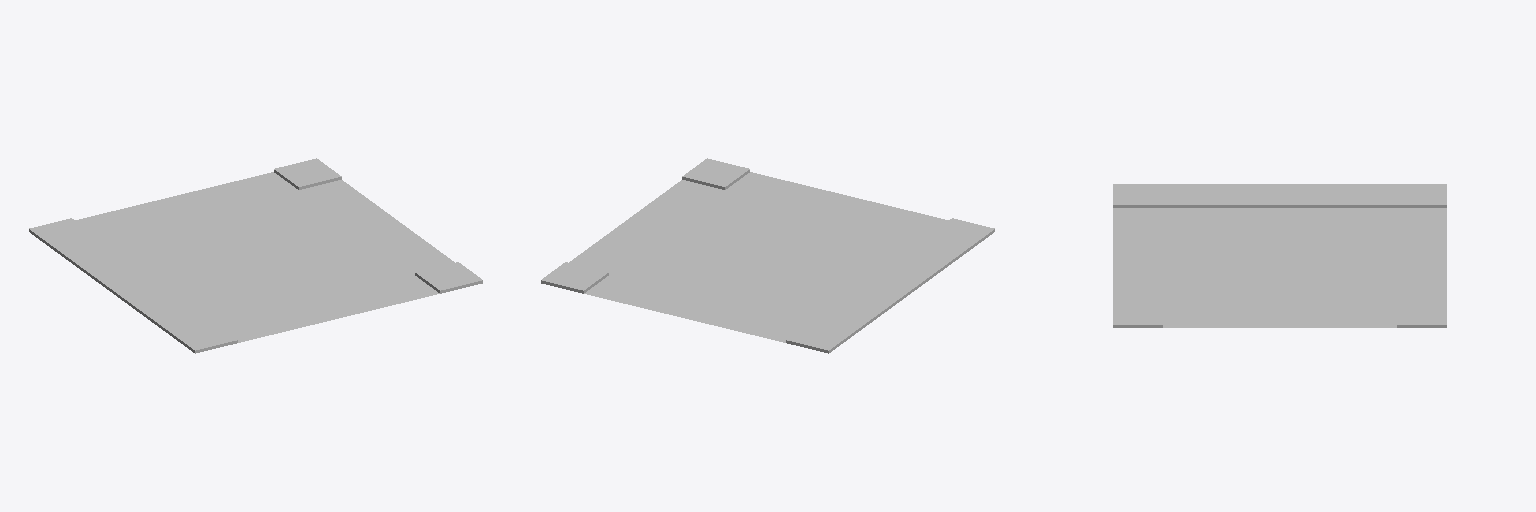
File: Road Lane_02.obj
3 views of the same model, side by side, from view 1: azimuth 30°, elevation 25°; view 2: azimuth 150°, elevation 25°; view 3: azimuth 270°, elevation 25° (orthographic).
Parts seen in each view (by area): view 1: Road_Lane_02; view 2: Road_Lane_02; view 3: Road_Lane_02.
Part boxes in pixels (bbox=[...]): Road_Lane_02: bbox=[29, 158, 482, 353]; Road_Lane_02: bbox=[541, 158, 994, 353]; Road_Lane_02: bbox=[1113, 184, 1446, 327].
Size of the model in its own units: 787 by 7.87 by 787.